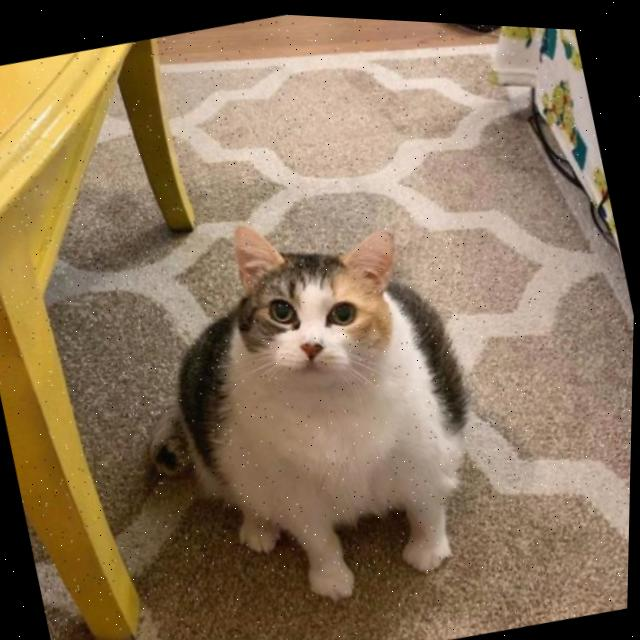Cats: (77, 145, 566, 640)
